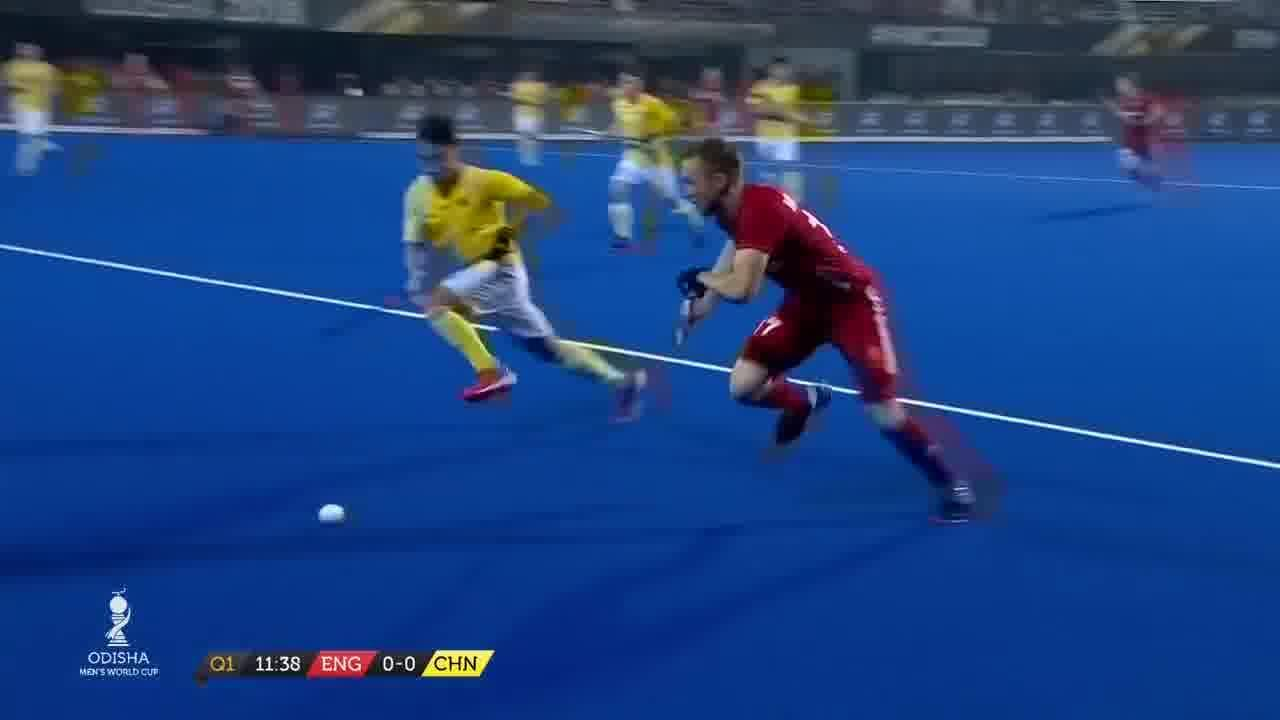ball: (315, 501, 345, 525)
